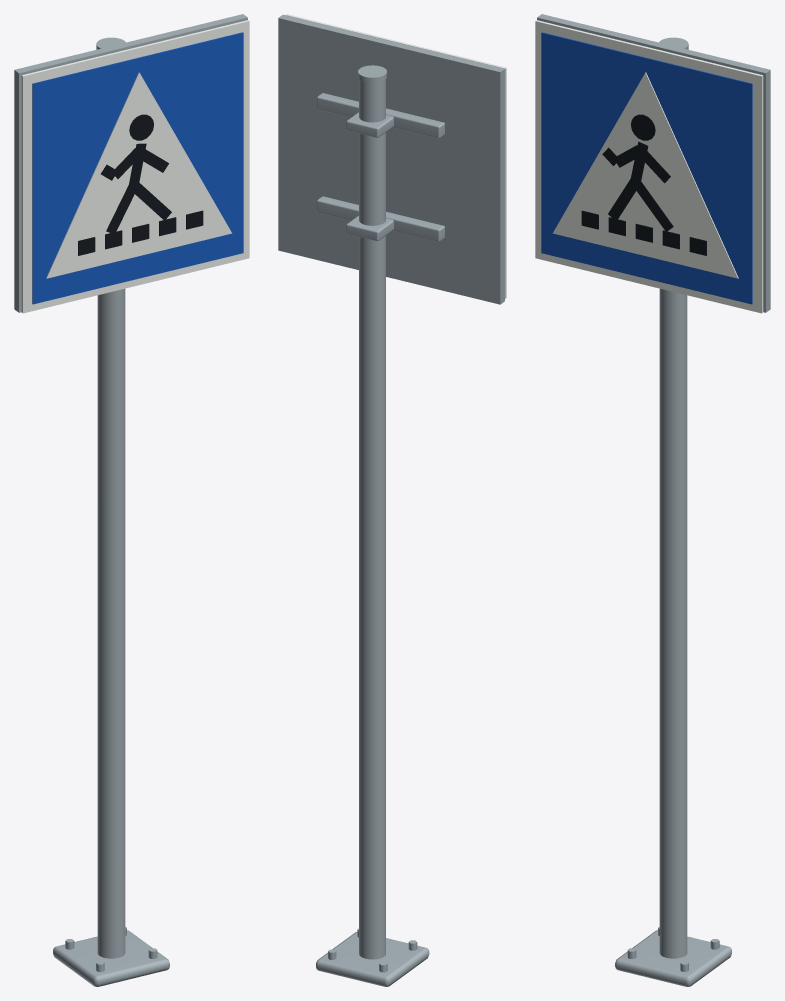
The model's file is DS_Sign_Crossing.fbx.
3 renders of one model, left to right at view 1: azimuth 30°, elevation 25°; view 2: azimuth 150°, elevation 25°; view 3: azimuth 330°, elevation 25°, orthographic. The views are drawn at different scales.
Visible parts, largest first — view 1: Face_Field.007, Post.007, CrossingTriangle, Face_Border.007, Plate_Back.007, BasePlate.007, Pictogram0.001, Pictogram1; view 2: Plate_Back.007, Post.007, BasePlate.007, RearRail.014, RearRail.015, Face_Border.007, PostClamp.014, PostClamp.015; view 3: Face_Field.007, Post.007, CrossingTriangle, Face_Border.007, Plate_Back.007, BasePlate.007, Pictogram0.001.
Part boxes in pixels (<box>): Face_Field.007: <box>32,32,243,304</box>; Post.007: <box>97,288,125,958</box>; CrossingTriangle: <box>46,72,232,278</box>; Face_Border.007: <box>21,20,249,313</box>; Plate_Back.007: <box>14,14,247,312</box>; BasePlate.007: <box>53,930,169,986</box>; Pictogram0.001: <box>130,182,171,220</box>; Pictogram1: <box>106,184,137,234</box>; Plate_Back.007: <box>278,14,504,304</box>; Post.007: <box>359,79,385,959</box>; BasePlate.007: <box>316,932,429,986</box>; RearRail.014: <box>316,196,444,241</box>; RearRail.015: <box>316,93,444,138</box>; Face_Border.007: <box>285,14,506,298</box>; PostClamp.014: <box>346,215,393,241</box>; PostClamp.015: <box>346,112,393,137</box>; Face_Field.007: <box>541,32,752,304</box>; Post.007: <box>659,288,687,958</box>; CrossingTriangle: <box>552,72,738,278</box>; Face_Border.007: <box>535,20,763,313</box>; Plate_Back.007: <box>537,14,770,312</box>; BasePlate.007: <box>615,930,731,986</box>; Pictogram0.001: <box>632,181,673,231</box>.
Bounding box in the file's own units: 72 × 281 × 28.6.
